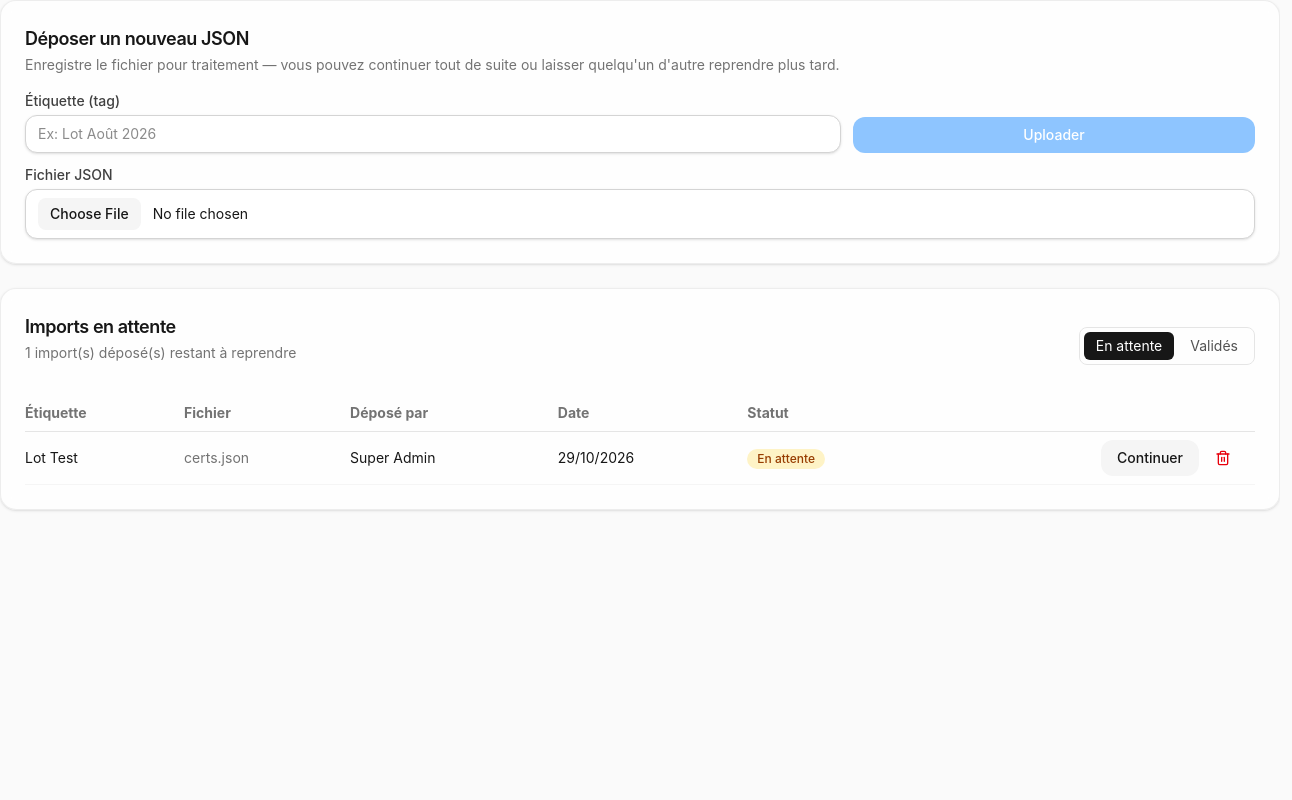
Test: ImportPage › lists pending uploads and lets you continue one from the list
The image size is (1292, 800).
Expected: the text "Lot Test" is shown, [25,432,184,484]
Click the button "Continuer" at {"x": 1150, "y": 458}, box [1101,440,1199,476]
(page scrolled)
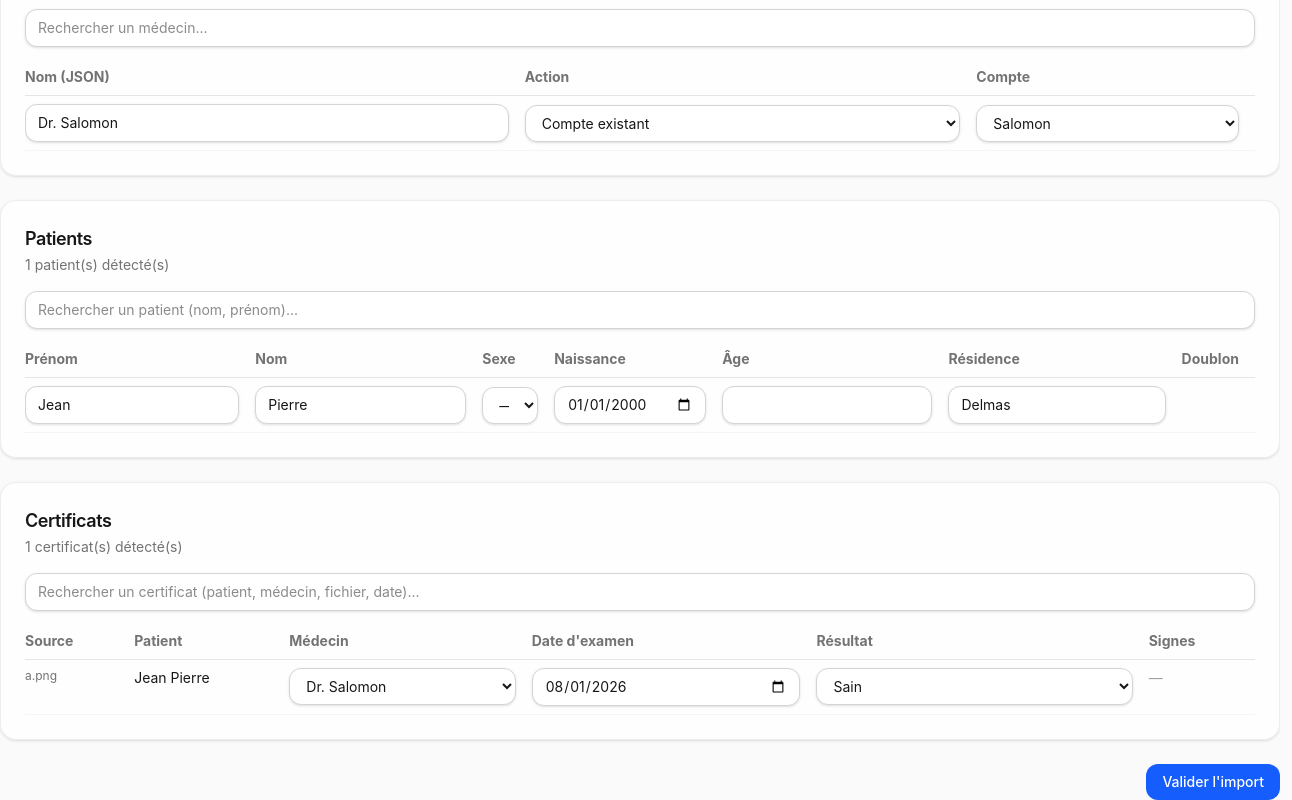
Expected: the heading "Certificats" is shown, [25,510,111,531]
